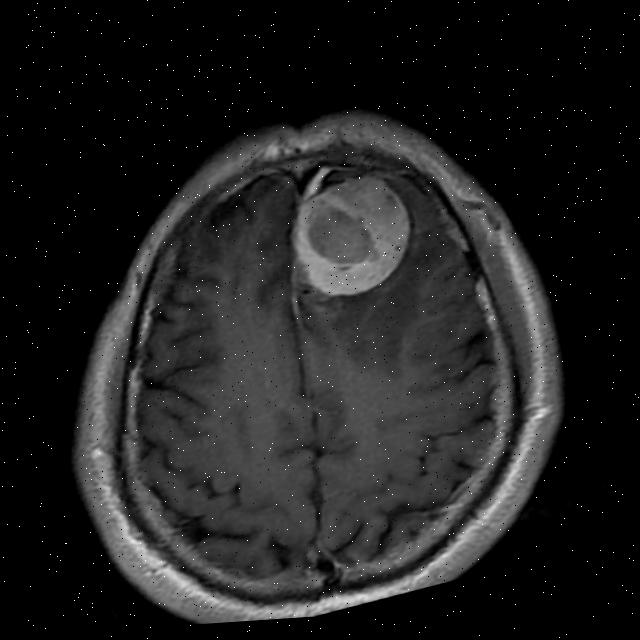Meningioma: (275, 158, 428, 313)
